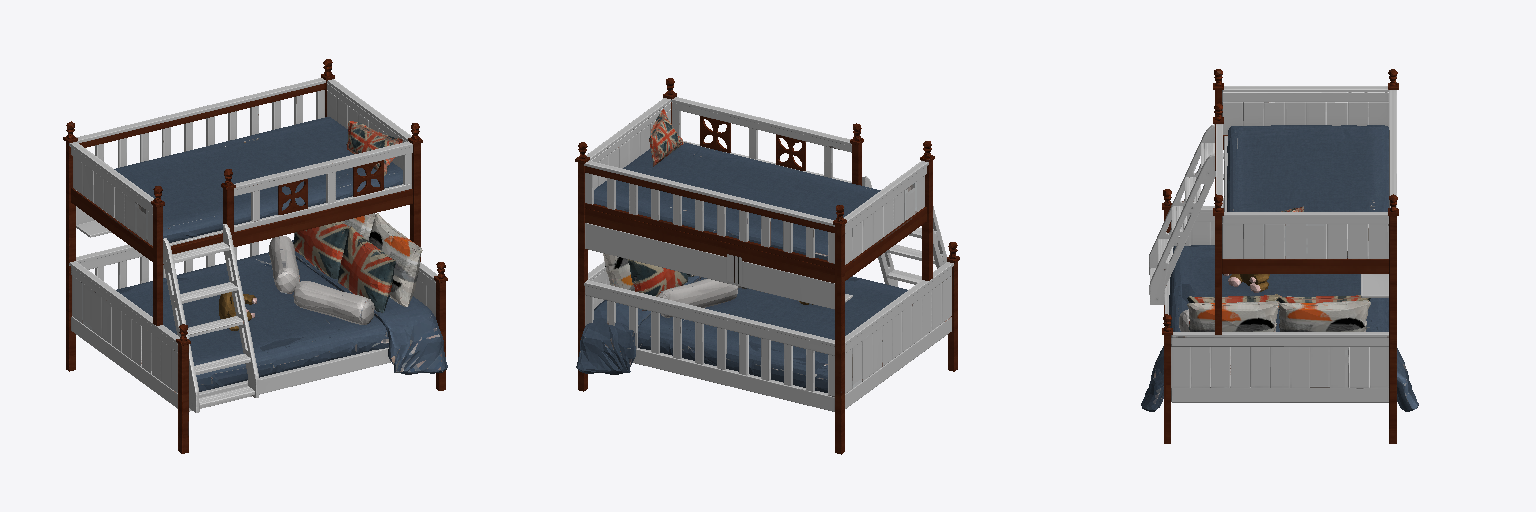
3 renders of one model, left to right at view 1: azimuth 30°, elevation 25°; view 2: azimuth 150°, elevation 25°; view 3: azimuth 270°, elevation 25°, orthographic.
Visible parts, largest first — view 1: solid_006, solid_002, solid_007, solid_004, solid_001, solid_003, solid_014; view 2: solid_006, solid_002, solid_007, solid_004, solid_001, solid_003; view 3: solid_006, solid_002, solid_007, solid_003, solid_004.
Boxes of the visible parts, <box> form: solid_006: <box>69,78,437,412</box>; solid_002: <box>114,117,447,391</box>; solid_007: <box>63,59,447,453</box>; solid_004: <box>293,121,402,312</box>; solid_001: <box>269,236,374,324</box>; solid_003: <box>342,213,422,306</box>; solid_014: <box>219,292,255,330</box>; solid_006: <box>584,97,953,411</box>; solid_002: <box>576,142,907,392</box>; solid_007: <box>575,78,959,454</box>; solid_004: <box>628,109,694,310</box>; solid_001: <box>657,279,746,317</box>; solid_003: <box>603,253,634,290</box>; solid_006: <box>1149,86,1396,402</box>; solid_002: <box>1141,125,1418,411</box>; solid_007: <box>1162,69,1398,443</box>; solid_003: <box>1187,300,1370,331</box>; solid_004: <box>1187,206,1370,329</box>.
Bounding box in the file's own units: 1.9 × 1.68 × 1.72.
Materials: 1 (1 with a texture image).